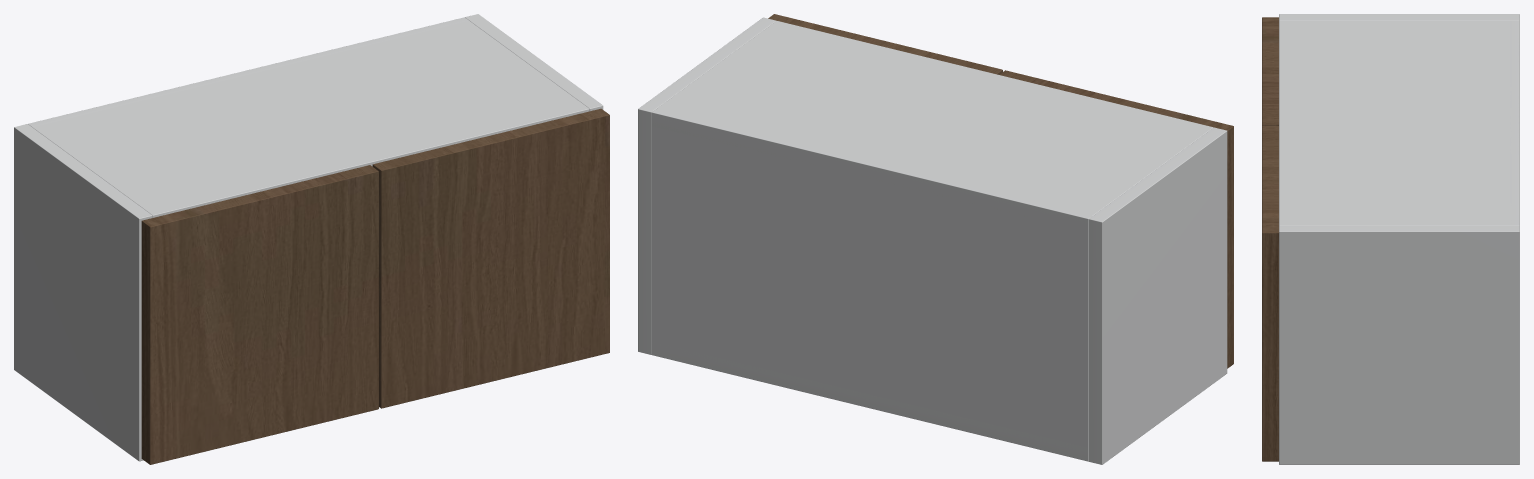
Rendered from oppein-ply-mso-w2412.glb.
3 renders of one model, left to right at view 1: azimuth 30°, elevation 25°; view 2: azimuth 150°, elevation 25°; view 3: azimuth 270°, elevation 25°, orthographic. The views are drawn at different scales.
Visible parts, largest first — view 1: Door, Door.001, Cabinet top, Cabinet side, Cabinet back, Cabinet side.001; view 2: Cabinet back, Cabinet top, Cabinet side, Cabinet bottom, Cabinet side.001, Door, Door.001; view 3: Cabinet side.001, Cabinet top, Door.001, Cabinet back, Door, Cabinet side.
Boxes of the visible parts, bbox=[...] form: Door: bbox=[141, 165, 378, 464]; Door.001: bbox=[372, 108, 609, 408]; Cabinet top: bbox=[33, 19, 589, 217]; Cabinet side: bbox=[14, 124, 152, 461]; Cabinet back: bbox=[28, 17, 468, 127]; Cabinet side.001: bbox=[465, 14, 603, 111]; Cabinet back: bbox=[651, 108, 1093, 461]; Cabinet top: bbox=[651, 21, 1213, 232]; Cabinet side: bbox=[1089, 127, 1227, 464]; Cabinet bottom: bbox=[651, 341, 1088, 461]; Cabinet side.001: bbox=[638, 17, 776, 354]; Door: bbox=[999, 70, 1233, 368]; Door.001: bbox=[768, 14, 1002, 74]; Cabinet side.001: bbox=[1279, 225, 1519, 464]; Cabinet top: bbox=[1279, 20, 1519, 225]; Door.001: bbox=[1262, 125, 1278, 461]; Cabinet back: bbox=[1510, 20, 1519, 225]; Door: bbox=[1262, 17, 1278, 125]; Cabinet side: bbox=[1279, 14, 1519, 20].
Bounding box in the file's own units: 0.6096 × 0.3048 × 0.3048.
2 materials, 1 textured.
